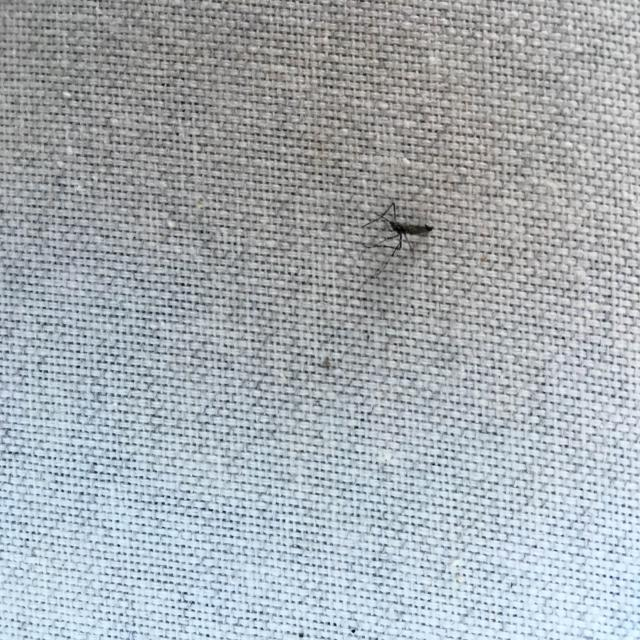albopictus: (355, 192, 439, 267)
